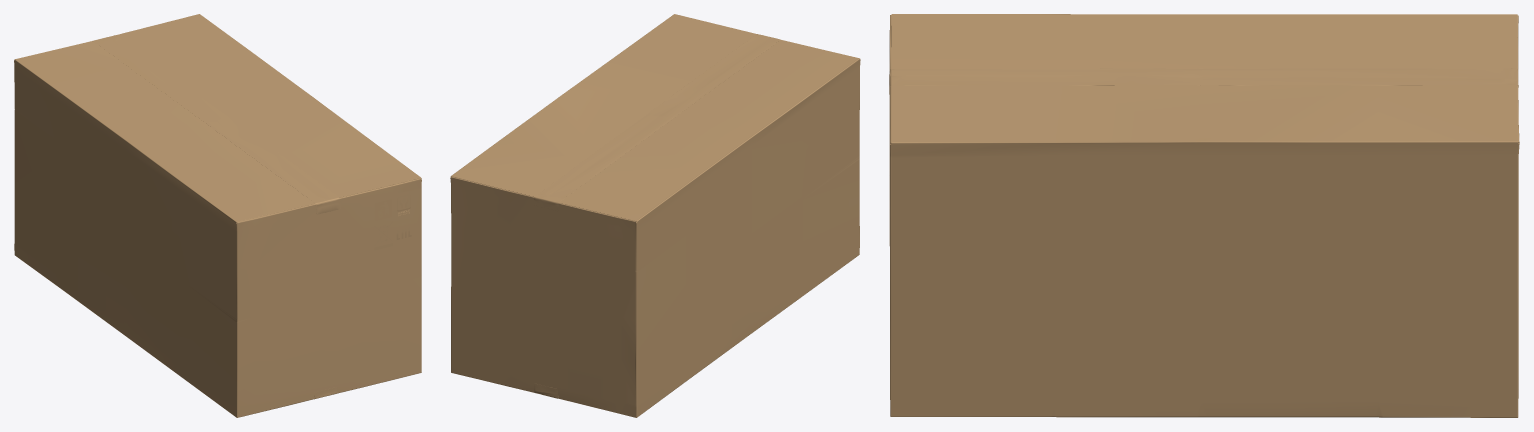
File: box_corrugated_white_a20.glb
The picture shows the model from 3 angles, left to right: view 1: azimuth 30°, elevation 25°; view 2: azimuth 150°, elevation 25°; view 3: azimuth 270°, elevation 25°; orthographic projection. The views are drawn at different scales.
Size of the model in its own units: 0.299 by 0.3019 by 0.6216.
